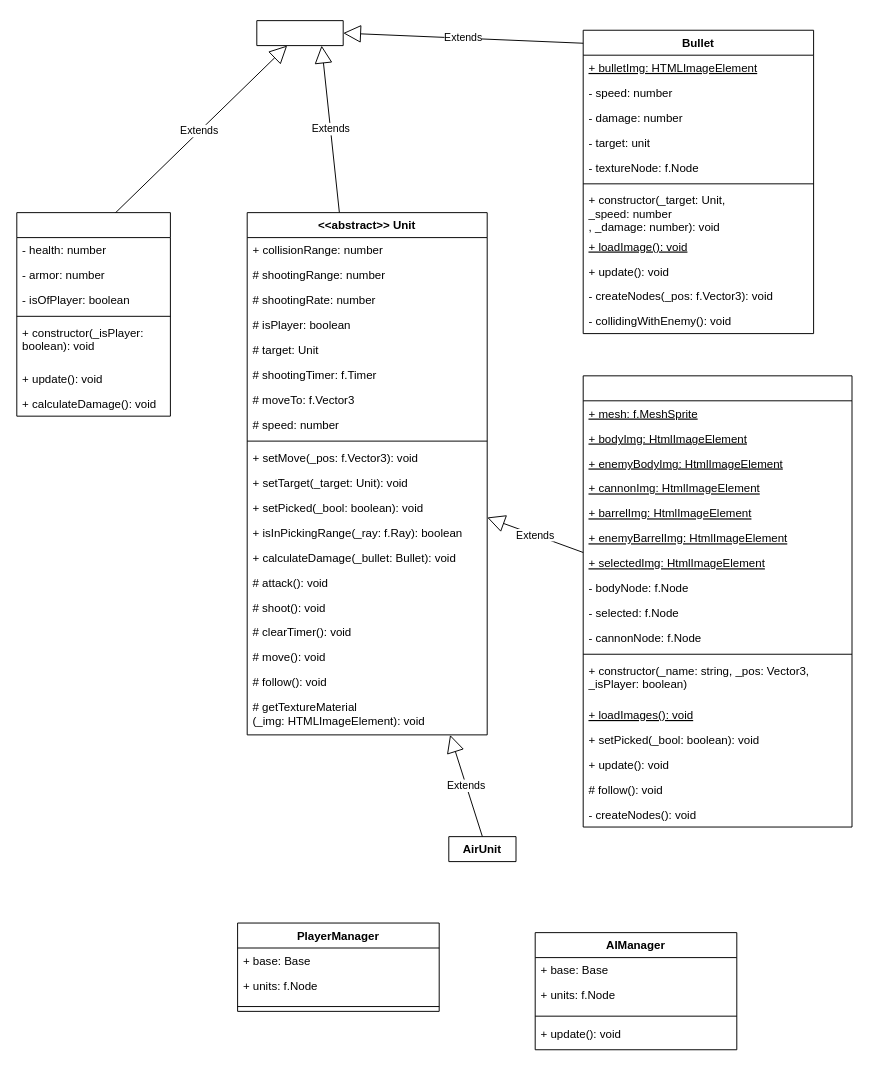
Some shapes in this 869 by 1069 pixel diagram are drawn without their labels. Here are the shapes that lost their labels. From the top down, the box of each, then its label:
(256, 20, 343, 46): f.Node
(16, 212, 170, 416): Base
(582, 375, 852, 827): TankUnit
